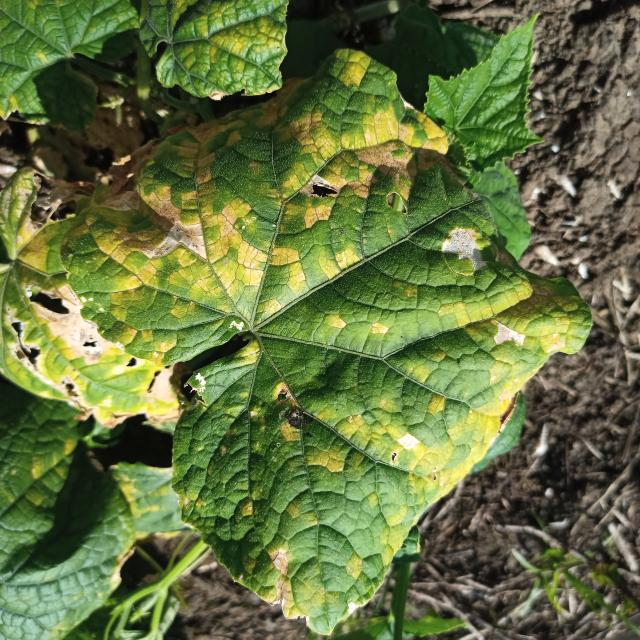disease_cucumber: (19, 81, 569, 608)
